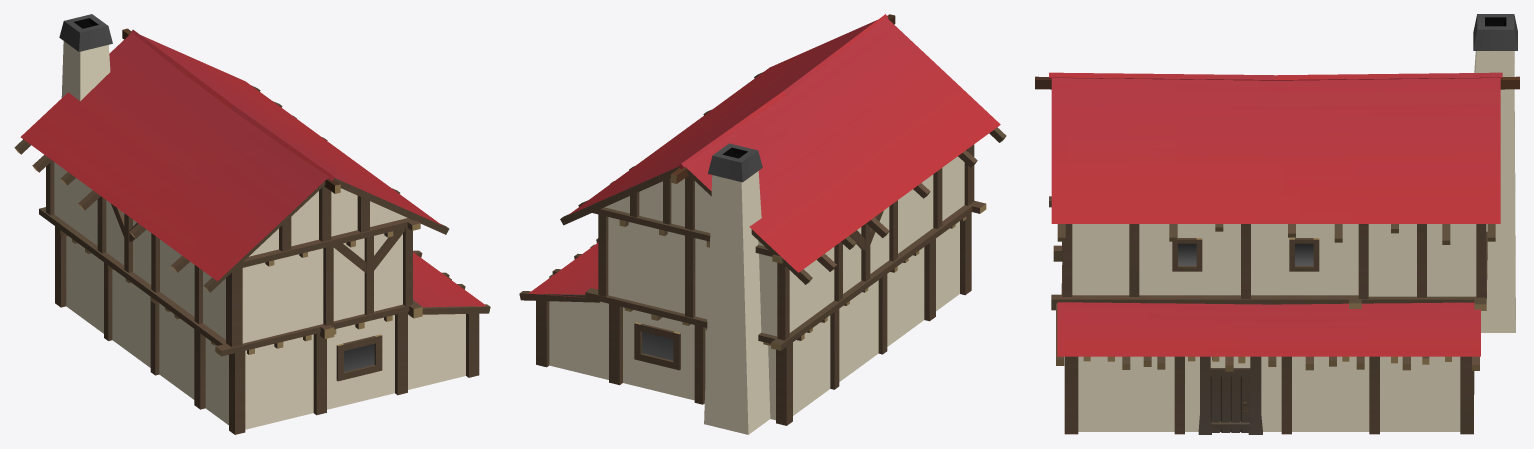
The model's file is House_5_LOD1.fbx.
3 renders of one model, left to right at view 1: azimuth 30°, elevation 25°; view 2: azimuth 150°, elevation 25°; view 3: azimuth 270°, elevation 25°, orthographic. The views are drawn at different scales.
Visible parts, largest first — view 1: polySurface9614; view 2: polySurface9614; view 3: polySurface9614.
Part boxes in pixels (bbox=[...]): polySurface9614: bbox=[14, 14, 490, 434]; polySurface9614: bbox=[519, 14, 1006, 434]; polySurface9614: bbox=[1035, 14, 1519, 434].
Size of the model in its own units: 980 by 834 by 1224.
